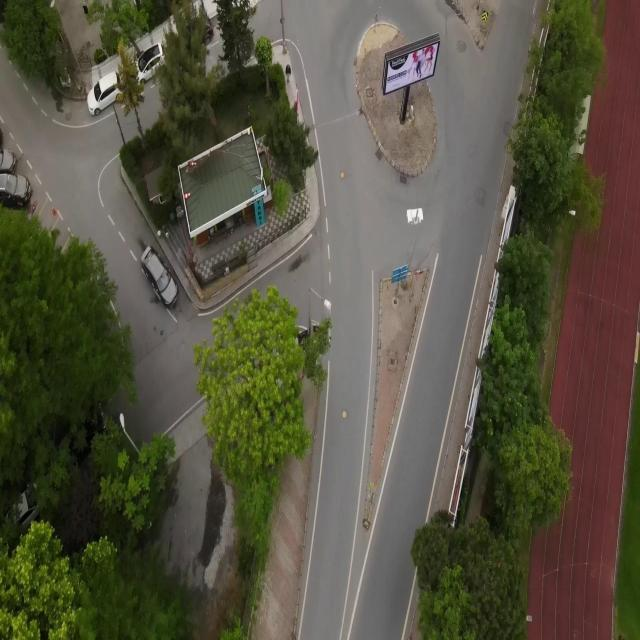p3rson: (82, 2, 89, 17)
